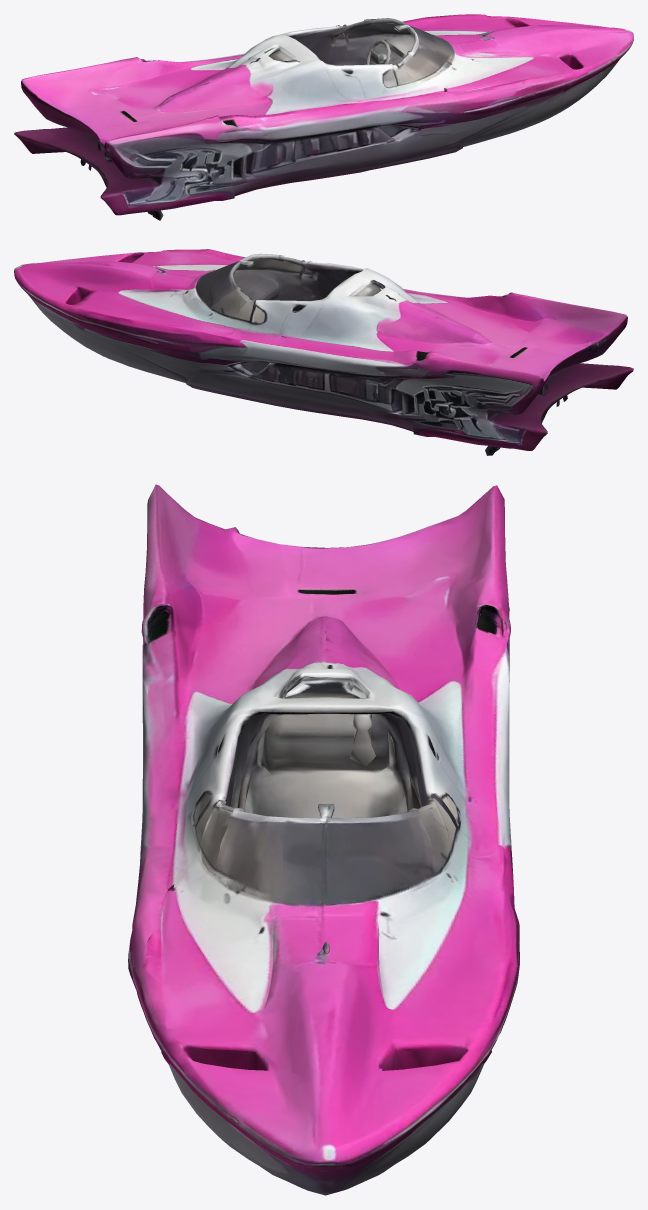
Rendered from speedboat.glb.
3 views of the same model, one above another, from view 1: azimuth 30°, elevation 25°; view 2: azimuth 150°, elevation 25°; view 3: azimuth 270°, elevation 25° (orthographic). The views are drawn at different scales.
Visible parts, largest first — view 1: tripo_node_a758f545-13ab-4963-baa1-4f605480fe3b; view 2: tripo_node_a758f545-13ab-4963-baa1-4f605480fe3b; view 3: tripo_node_a758f545-13ab-4963-baa1-4f605480fe3b.
Boxes of the visible parts, left/top/right/bottom form: tripo_node_a758f545-13ab-4963-baa1-4f605480fe3b: left=14, top=14, right=633, bottom=220; tripo_node_a758f545-13ab-4963-baa1-4f605480fe3b: left=14, top=249, right=633, bottom=455; tripo_node_a758f545-13ab-4963-baa1-4f605480fe3b: left=128, top=484, right=519, bottom=1195.
Bounding box in the file's own units: 0.9839 × 0.208 × 0.2901.
Materials: 1 (1 with a texture image).
